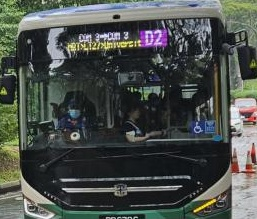bus: (139, 27, 165, 48)
